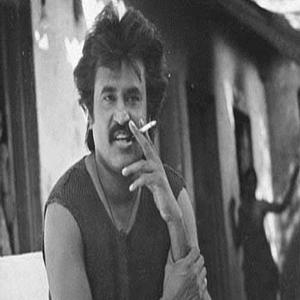cigarette: (136, 119, 159, 133)
